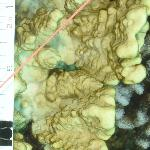alive: (14, 1, 148, 149)
